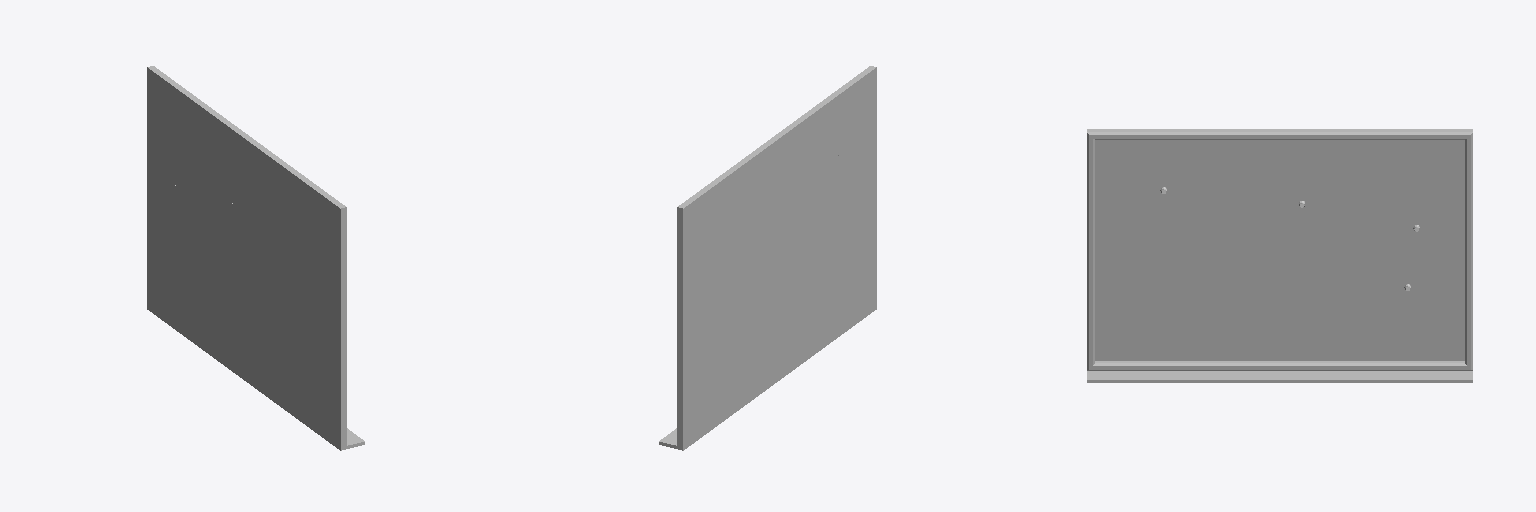
File: Message Board 02.obj
3 views of the same model, side by side, from view 1: azimuth 30°, elevation 25°; view 2: azimuth 150°, elevation 25°; view 3: azimuth 270°, elevation 25° (orthographic).
Parts seen in each view (by area): view 1: Message_Board; view 2: Message_Board; view 3: Message_Board.
Boxes of the visible parts, <box> form: Message_Board: <box>147,66,364,450</box>; Message_Board: <box>659,66,876,450</box>; Message_Board: <box>1087,129,1472,382</box>.
Bounding box in the file's own units: 9.12 × 84.48 × 122.